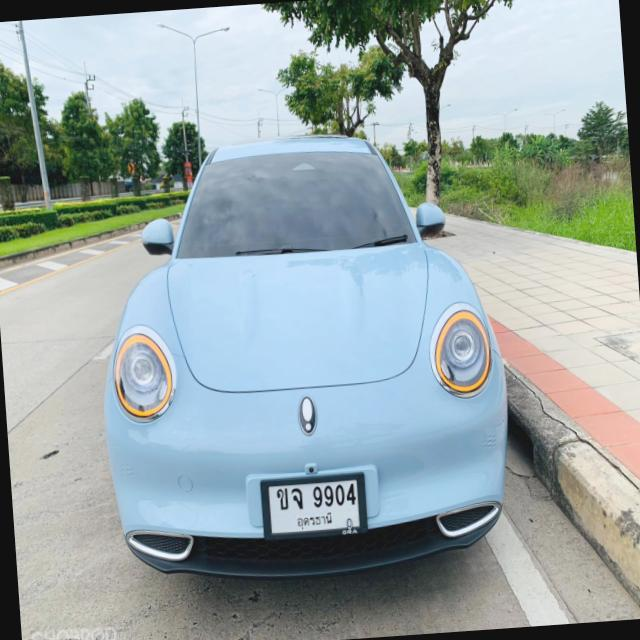license_plate: (261, 470, 367, 540)
